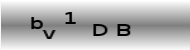1: (61, 11, 76, 25)
B: (116, 22, 132, 37)
D: (92, 23, 108, 37)
b: (29, 16, 44, 29)
v: (41, 29, 56, 40)
